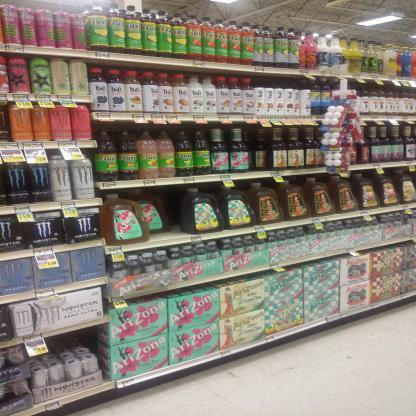Void: (149, 192, 179, 235), (48, 336, 91, 348)
